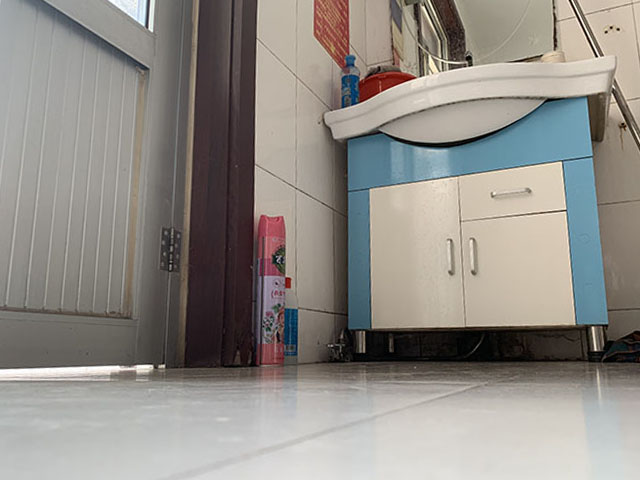cabinet: (321, 53, 614, 356)
